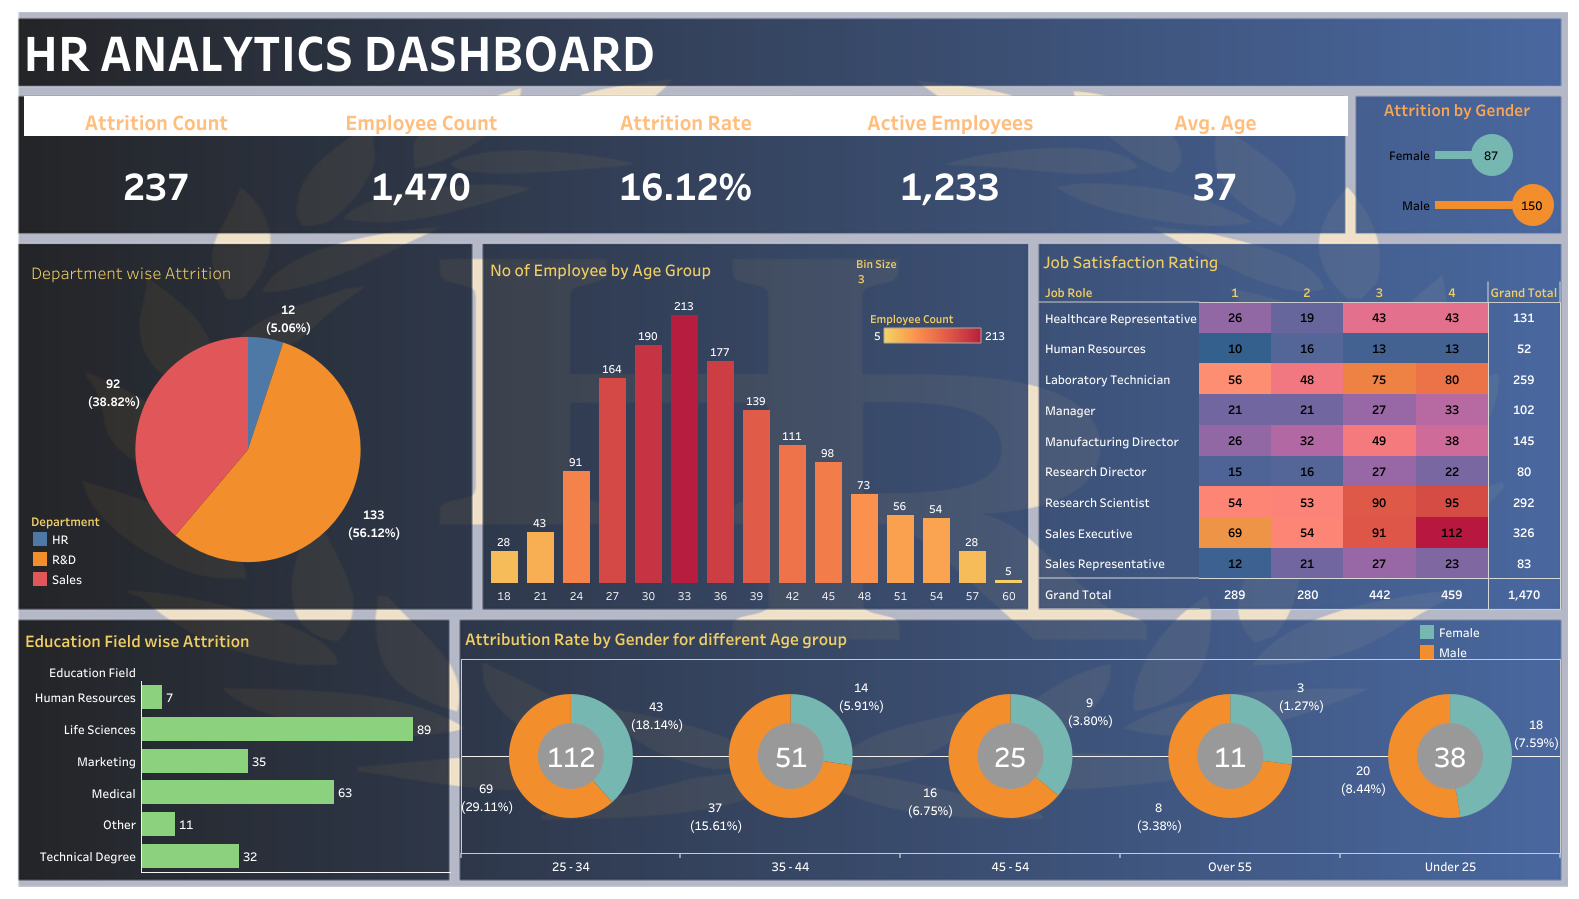

What the dashboard file says about the page in this screenshot:
{"tool":"tableau","page":{"name":"HR ANALYTICS DASBOARD","canvas":[1580,900],"ordinal":0},"visuals":[{"type":"image","param":"Image/HR background.pptx.png","box":[8,8,1564,884]},{"type":"text","box":[21,16,647,69]},{"type":"worksheet","title":"Attrition by Gender","mark":"Automatic","rows":["Gender"],"cols":["Calculation_1413848811034746880","Calculation_1413848811034746880"],"box":[1355,92,204,139]},{"type":"worksheet","title":"KPI","mark":"Automatic","box":[24,96,1324,138]},{"type":"worksheet","title":"Job Satisfaction Rating","mark":"Square","rows":["Job Role"],"cols":["Job Satisfaction"],"box":[1039,244,522,366]},{"type":"worksheet","title":"No of Employee by Age Group","mark":"Automatic","rows":["Employee Count"],"cols":["Age (bin)"],"box":[486,252,541,352]},{"type":"worksheet","title":"Department wise Attrition","mark":"Pie","box":[27,255,442,351]},{"type":"parameter","param":"[Parameters].[Parameter 1]","box":[856,255,160,48]},{"type":"legend","title":"No of Employee by Age Group","param":"[federated.0oetdjn03vuqaa1d6hml81sb3854].[sum:Employee Count:qk]","box":[870,307,140,42]},{"type":"legend","title":"Department wise Attrition","param":"[federated.0oetdjn03vuqaa1d6hml81sb3854].[none:Department:nk]","box":[30,510,140,78]},{"type":"worksheet","title":"Attribution Rate by Gender for different Age group","mark":"Pie","rows":["Calculation_1413848811094302725","Calculation_1413848811094302725"],"cols":["CF_age band"],"box":[461,621,1100,255]},{"type":"legend","title":"Attribution Rate by Gender for different Age group","param":"[federated.0oetdjn03vuqaa1d6hml81sb3854].[none:Gender:nk]","box":[1417,622,140,40]},{"type":"worksheet","title":"Education Field wise Attrition","mark":"Automatic","rows":["Education Field"],"cols":["Calculation_1413848811034746880"],"box":[21,623,429,249]}]}

Visuals, with their boxes in screenshot pixels (x1, y1, x2, y2), scaled from the page's 1580x900 canvas onto the 1579x899 screenshot:
image: <box>8,8,1571,891</box>
text: <box>21,16,668,85</box>
"Attrition by Gender" worksheet: <box>1354,92,1558,231</box>
"KPI" worksheet: <box>24,96,1347,234</box>
"Job Satisfaction Rating" worksheet (Square marks): <box>1038,244,1560,609</box>
"No of Employee by Age Group" worksheet: <box>486,252,1026,603</box>
"Department wise Attrition" worksheet (Pie marks): <box>27,255,469,605</box>
parameter: <box>855,255,1015,303</box>
"No of Employee by Age Group" legend: <box>869,307,1009,349</box>
"Department wise Attrition" legend: <box>30,509,170,587</box>
"Attribution Rate by Gender for different Age group" worksheet (Pie marks): <box>461,620,1560,875</box>
"Attribution Rate by Gender for different Age group" legend: <box>1416,621,1556,661</box>
"Education Field wise Attrition" worksheet: <box>21,622,450,871</box>
